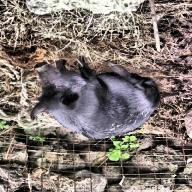boar: (19, 56, 163, 145)
